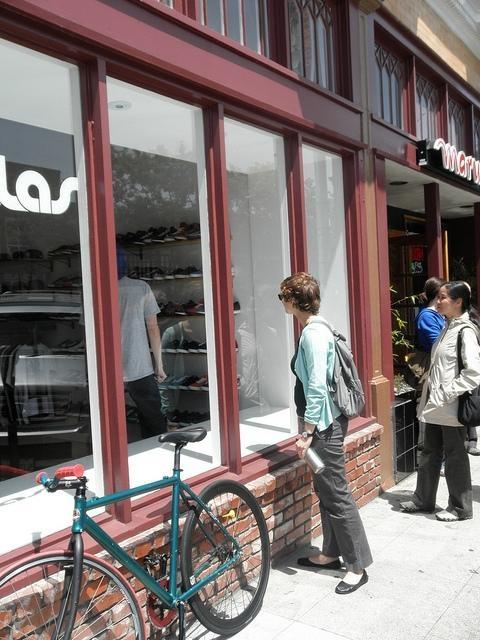bicycle: (6, 423, 274, 634)
